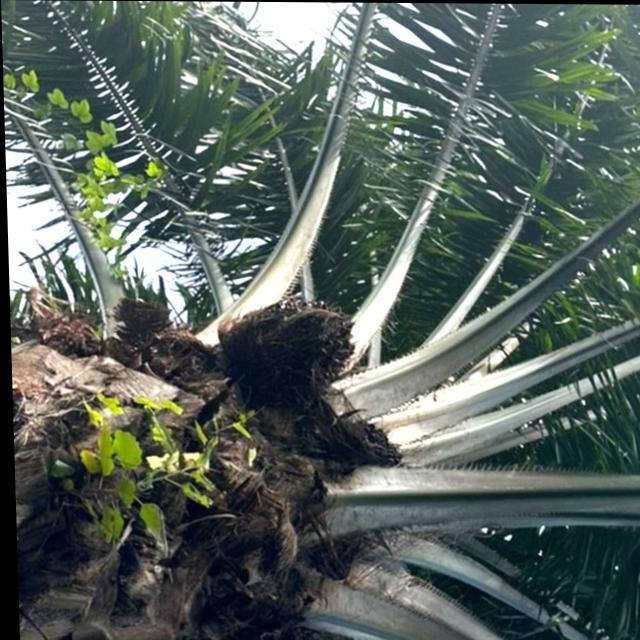ripe: (234, 290, 364, 423)
